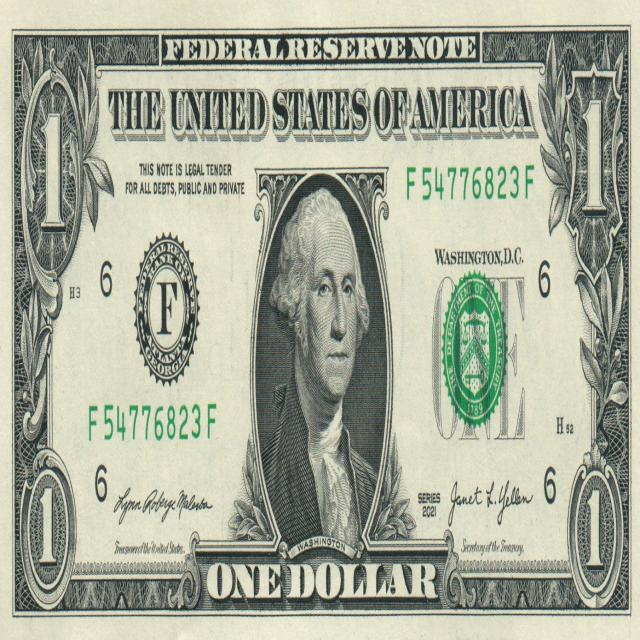SerialNumber: (89, 404, 216, 441), (407, 165, 534, 201)
